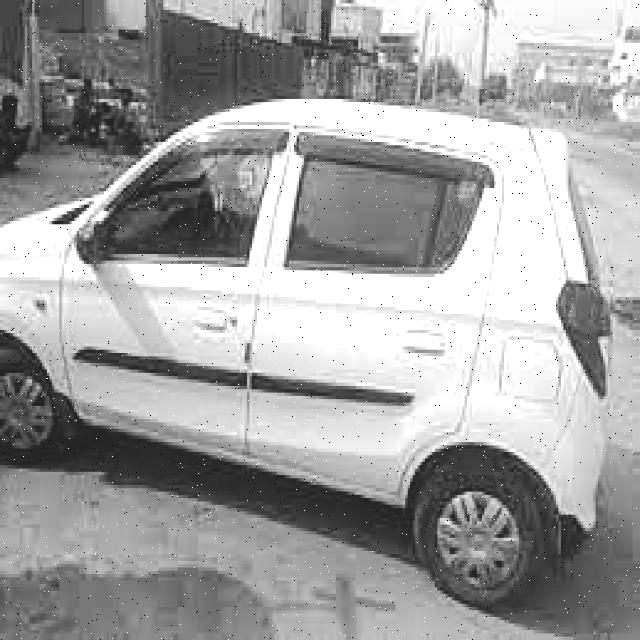Car: (0, 91, 640, 611)
